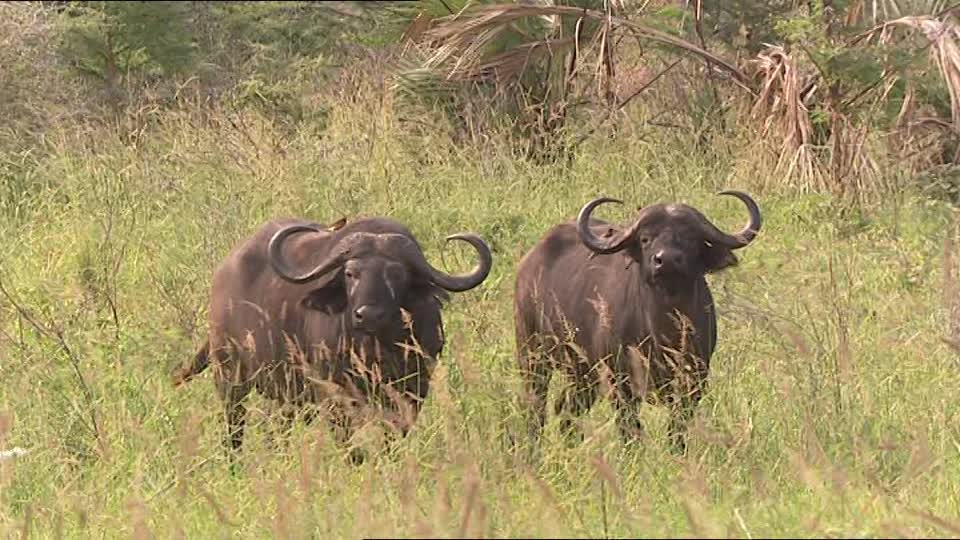buffalo: (180, 213, 493, 464), (515, 193, 766, 452)
